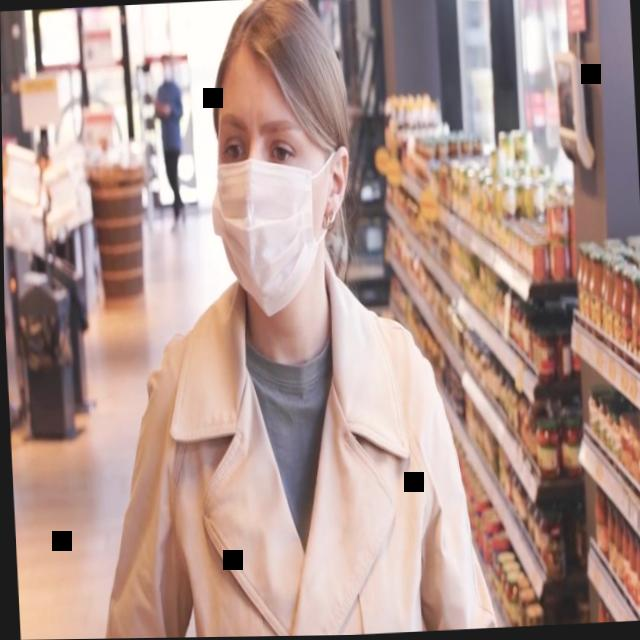Mask: (210, 89, 337, 318)
